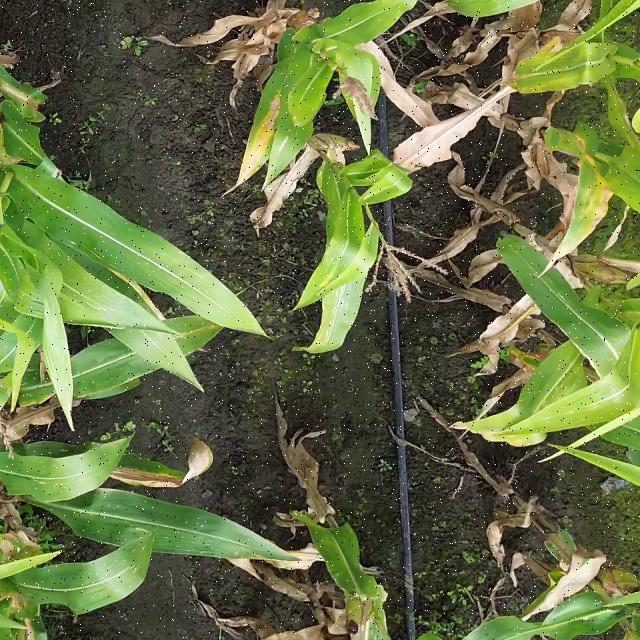northern-leaf-blight: (552, 126, 635, 261), (284, 242, 384, 354), (214, 70, 308, 185), (112, 441, 232, 498)
southern-leaf-blight: (517, 346, 611, 426)
